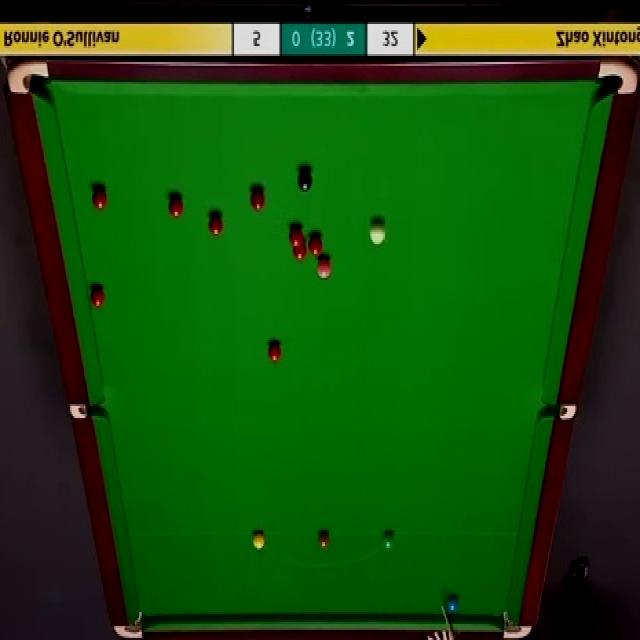black-ball: (296, 168, 314, 193)
blue-ball: (448, 593, 459, 613)
brown-ball: (318, 530, 331, 550)
green-ball: (381, 529, 395, 550)
pink-ball: (316, 256, 332, 281)
red-ball: (168, 194, 184, 219), (90, 286, 106, 310), (250, 188, 266, 212), (292, 239, 308, 262), (208, 213, 224, 236), (91, 190, 108, 211), (310, 238, 326, 260), (267, 340, 282, 362), (289, 227, 303, 247)
white-ball: (369, 218, 386, 245)
yellow-ball: (251, 530, 266, 551)
